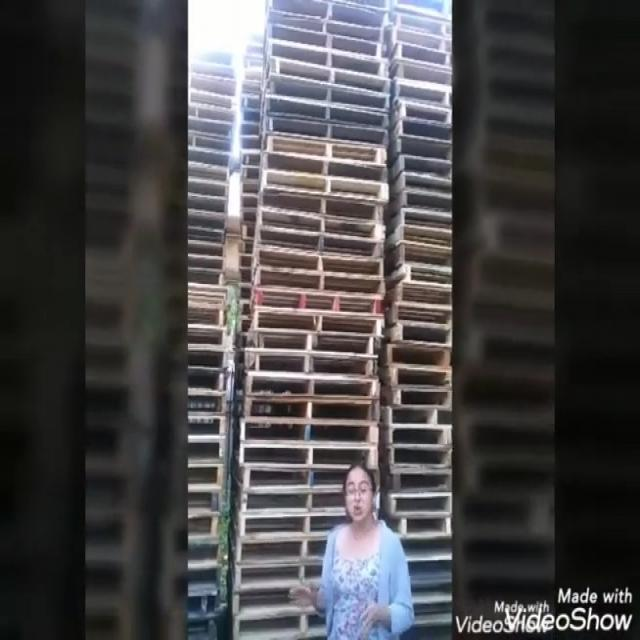Palette: (231, 0, 382, 469), (391, 2, 454, 633), (186, 46, 236, 640)
